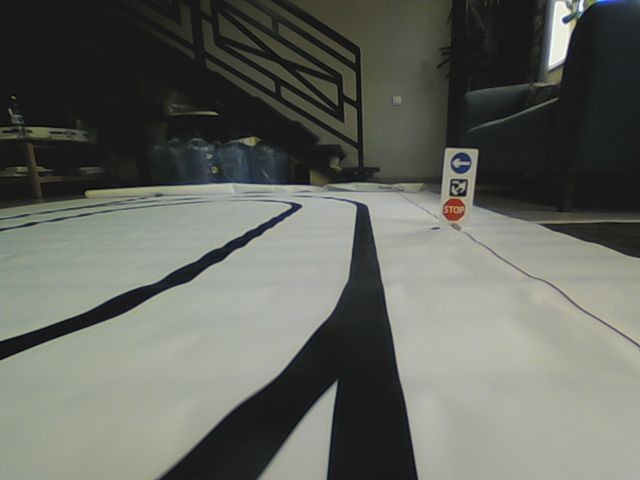Stop: (441, 198, 467, 223)
